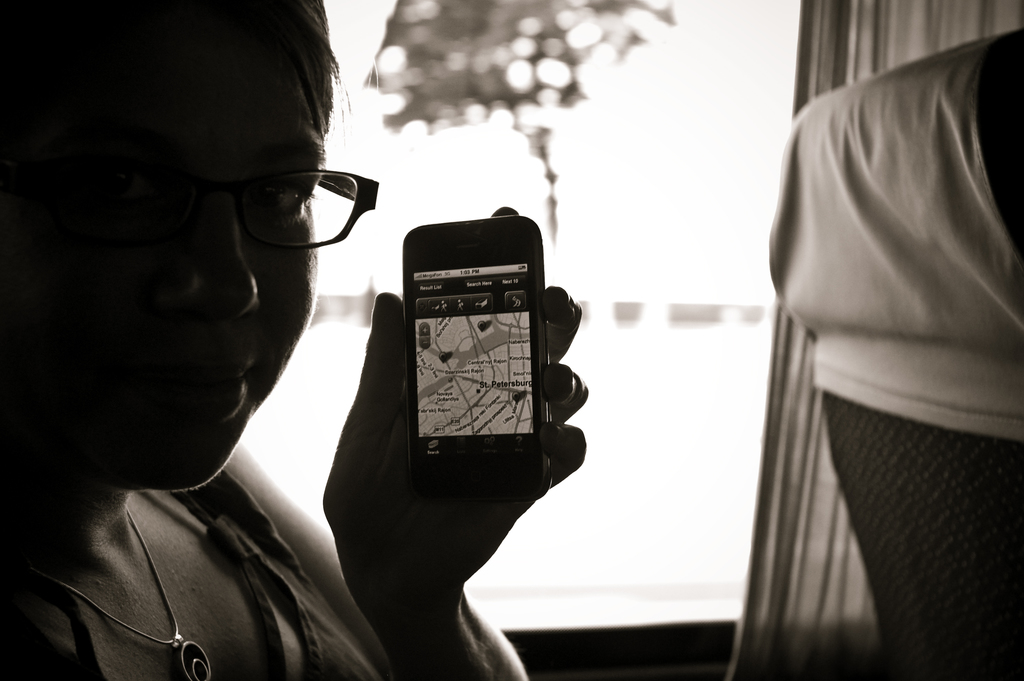Mobile-phone: (400, 208, 547, 513)
